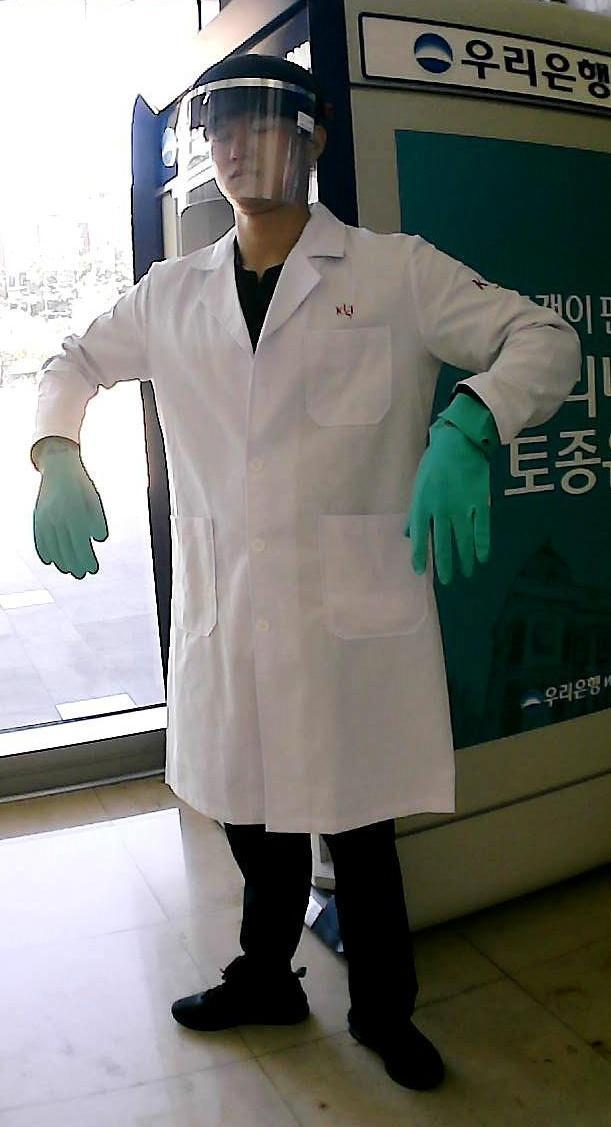lab_coat: (162, 230, 423, 815)
